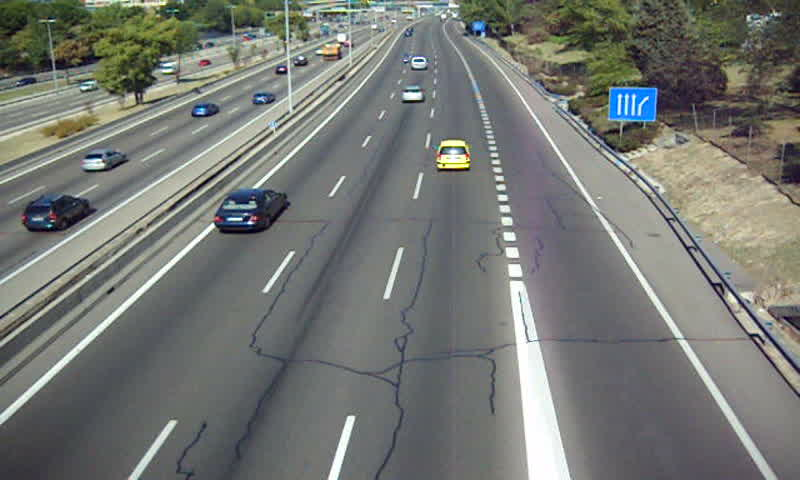car: (211, 189, 288, 233), (435, 140, 472, 171), (402, 85, 424, 104), (410, 56, 428, 72)
